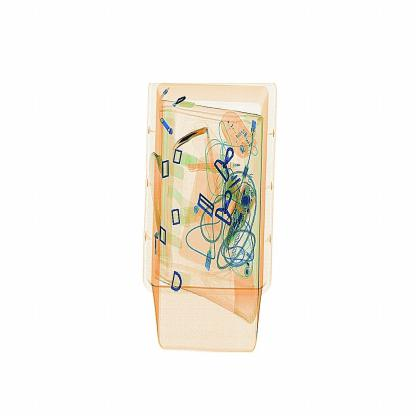wrench: (170, 119, 218, 151)
